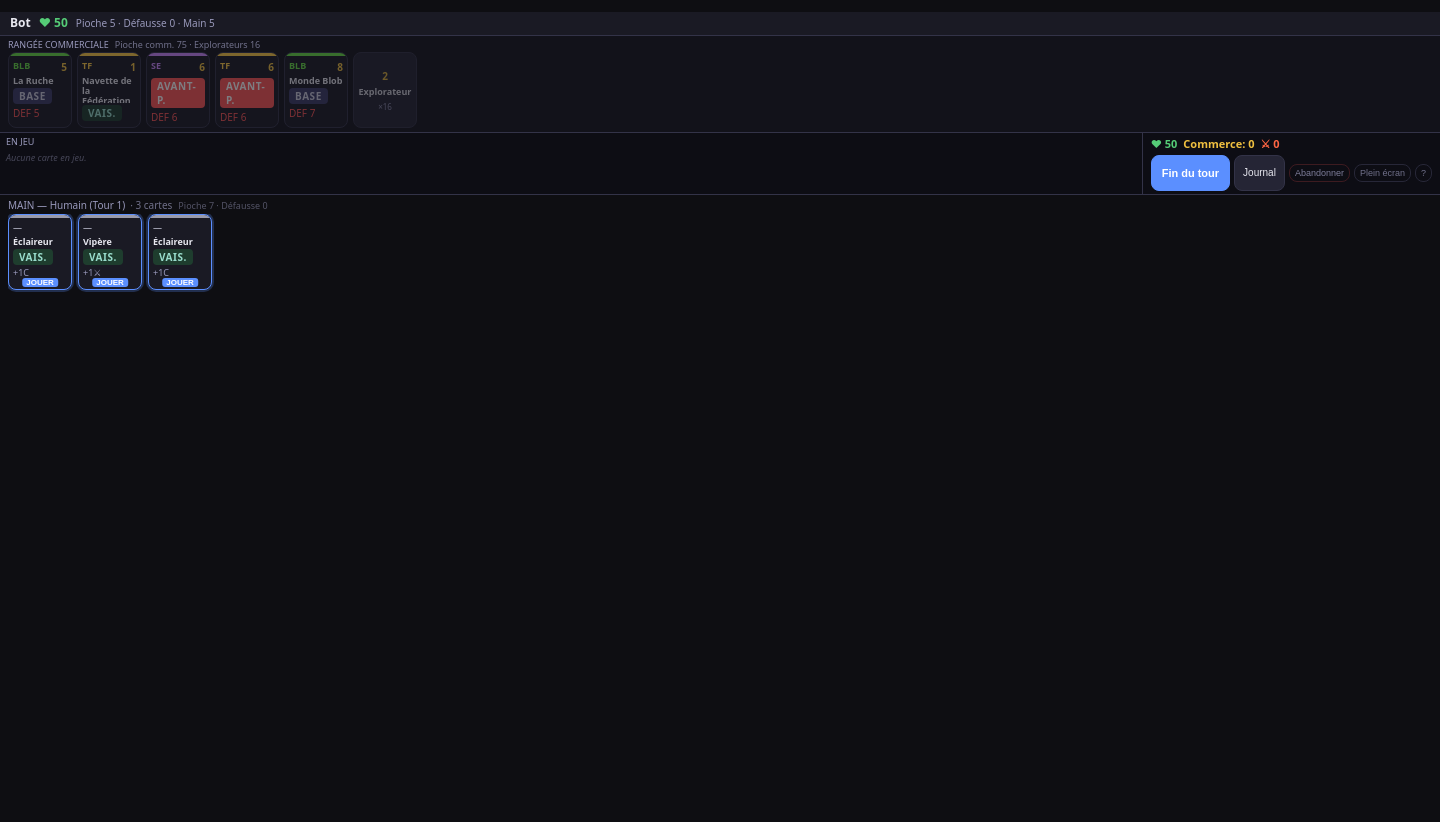
it: PATCH 0053 — A. Résumé actions bot (portrait) › Tour bot verrouillé : Fin du tour désactivé pendant tour bot
Click the button "Fin du tour" at (1190, 173), box [1151,155,1230,191]
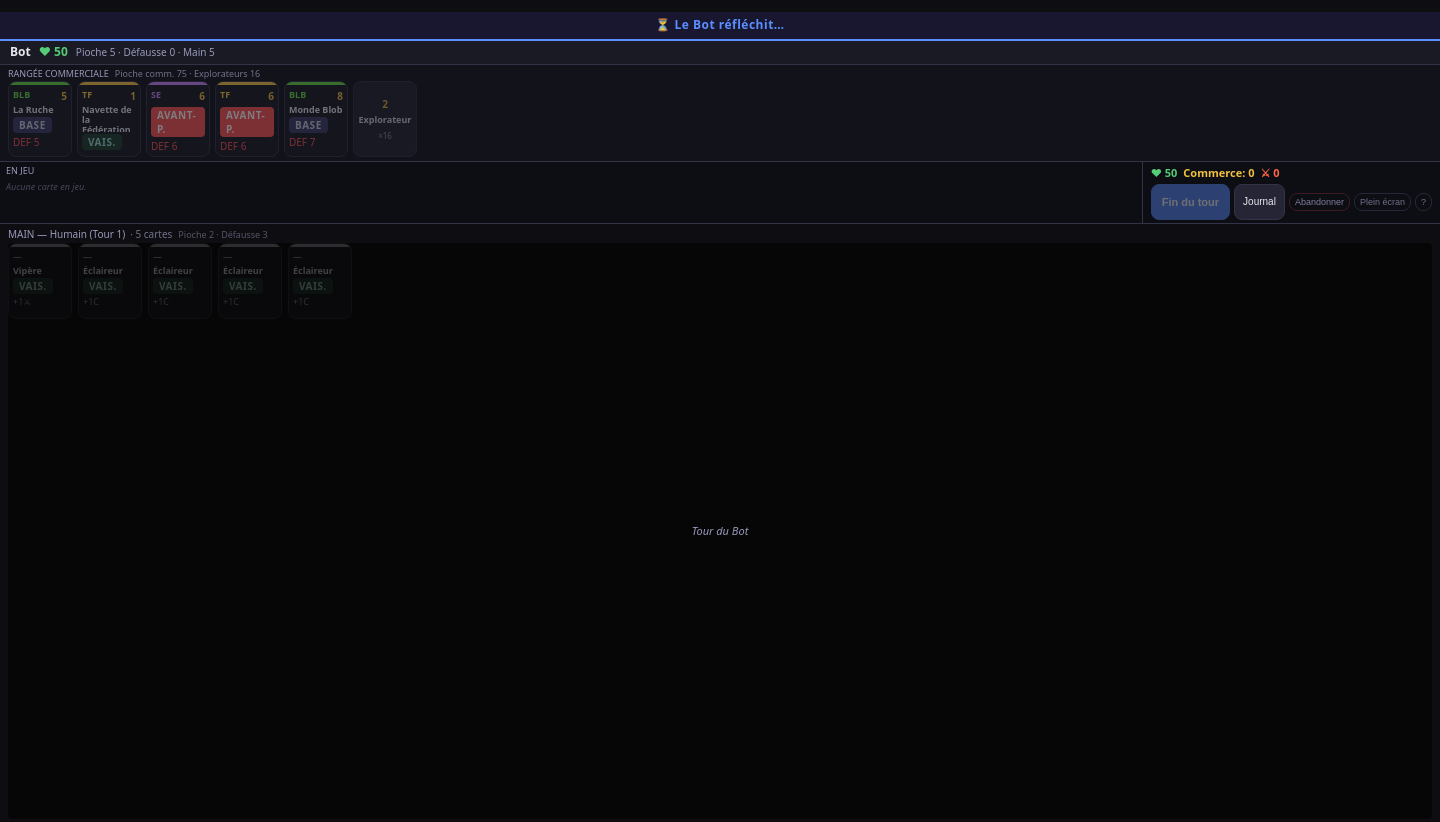
Result: the button "Fin du tour" is disabled at [1151,184,1230,220]
